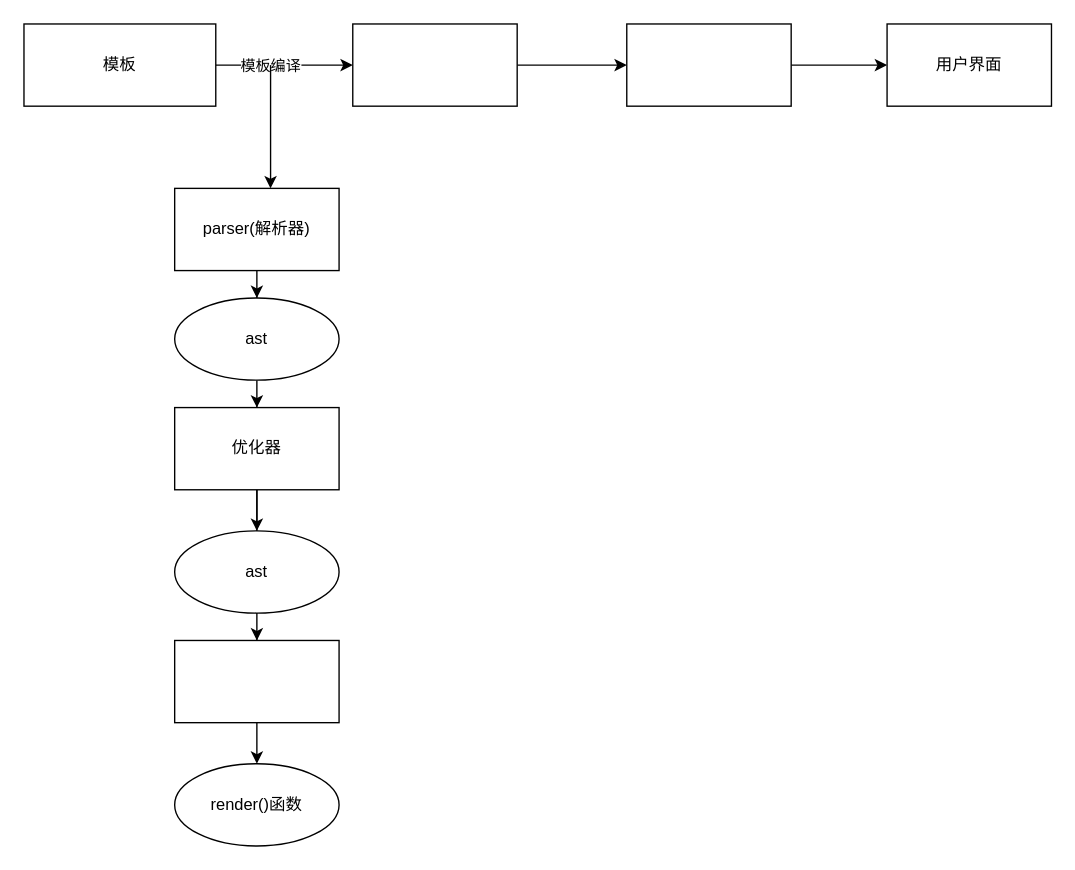
Image size: 1075x870. Some labels were removed from this diagram. The shapes that lost their labels are listed below. From the top down, each one's centre as x and y in pixels, then its label:
(434,64): render函数
(708,64): vnode
(256,681): 生成器
